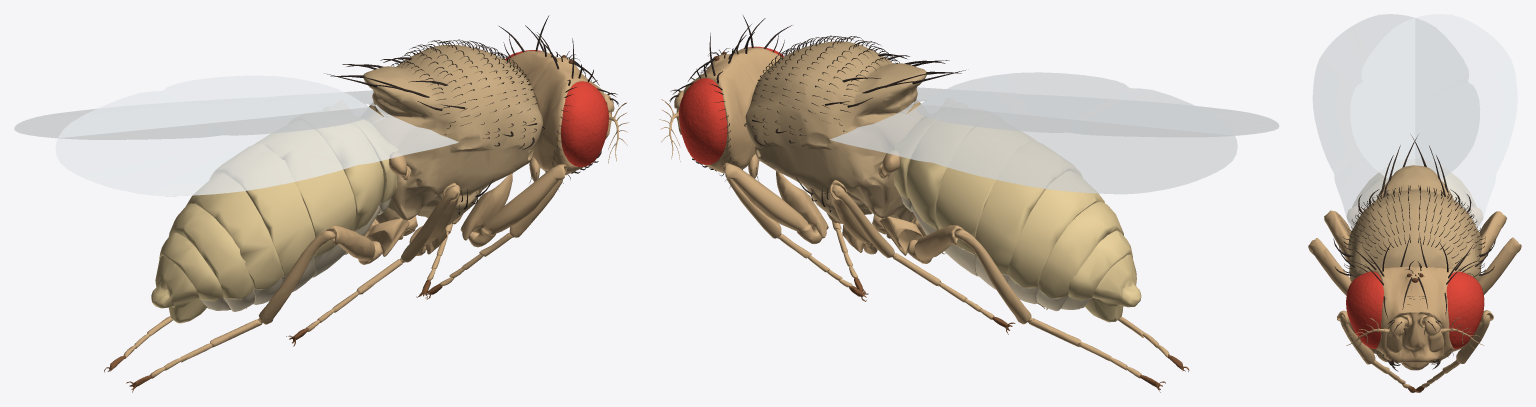
Rendered from fly-hi.glb.
3 views of the same model, side by side, from view 1: azimuth 30°, elevation 25°; view 2: azimuth 150°, elevation 25°; view 3: azimuth 270°, elevation 25° (orthographic). The views are drawn at different scales.
Parts seen in each view (by area): view 1: wing_right_geom, thorax_geom, wing_left_geom, head_geom, abdomen_4_geom, abdomen_3_geom, abdomen_5_geom, abdomen_7_geom, abdomen_6_geom, abdomen_2_geom, femur_T1_right_geom, tibia_T3_right_geom (+7 smaller); view 2: wing_left_geom, thorax_geom, wing_right_geom, head_geom, abdomen_4_geom, abdomen_3_geom, abdomen_5_geom, abdomen_7_geom, abdomen_6_geom, abdomen_2_geom, femur_T1_left_geom, tibia_T3_left_geom (+7 smaller); view 3: wing_left_geom, wing_right_geom, thorax_geom, head_geom, femur_T2_left_geom, femur_T2_right_geom, antenna_left_geom, antenna_right_geom, abdomen_2_geom, femur_T3_right_geom, femur_T3_left_geom, tibia_T1_right_geom (+2 smaller).
Boxes of the visible parts, x1,y1,x2,y2 form: wing_right_geom: (55,75,459,196); thorax_geom: (326,39,544,225); wing_left_geom: (14,90,378,139); head_geom: (499,15,615,189); abdomen_4_geom: (210,143,316,292); abdomen_3_geom: (256,129,355,277); abdomen_5_geom: (185,173,283,304); abdomen_7_geom: (151,232,234,323); abdomen_6_geom: (168,203,254,311); abdomen_2_geom: (315,123,383,254); femur_T1_right_geom: (468,164,567,247); tibia_T3_right_geom: (258,230,335,324); wing_left_geom: (830,72,1237,194); thorax_geom: (744,35,965,223); wing_right_geom: (911,87,1279,137); head_geom: (672,15,792,187); abdomen_4_geom: (964,140,1082,289); abdomen_3_geom: (936,127,1035,276); abdomen_5_geom: (1005,171,1104,304); abdomen_7_geom: (1061,230,1141,322); abdomen_6_geom: (1036,201,1123,311); abdomen_2_geom: (906,120,975,254); femur_T1_left_geom: (722,162,822,244); tibia_T3_left_geom: (954,229,1031,324); wing_left_geom: (1350,14,1517,230); wing_right_geom: (1312,14,1480,230); thorax_geom: (1333,135,1495,281); head_geom: (1346,236,1484,371); femur_T2_left_geom: (1478,237,1521,294); femur_T2_right_geom: (1308,238,1351,295); antenna_left_geom: (1422,316,1483,352); antenna_right_geom: (1346,317,1407,352); abdomen_2_geom: (1351,175,1472,228); femur_T3_right_geom: (1324,210,1350,262); femur_T3_left_geom: (1480,211,1506,264); tibia_T1_right_geom: (1340,314,1375,364).
Bounding box in the file's own units: 1 × 0.4385 × 0.3716.
